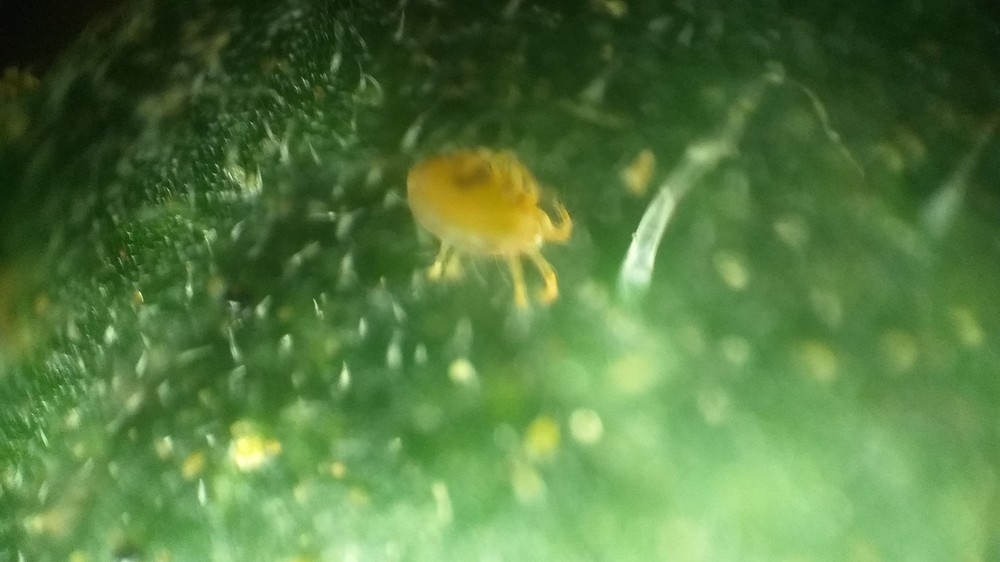Aracnido Rojo: (370, 113, 619, 328)
